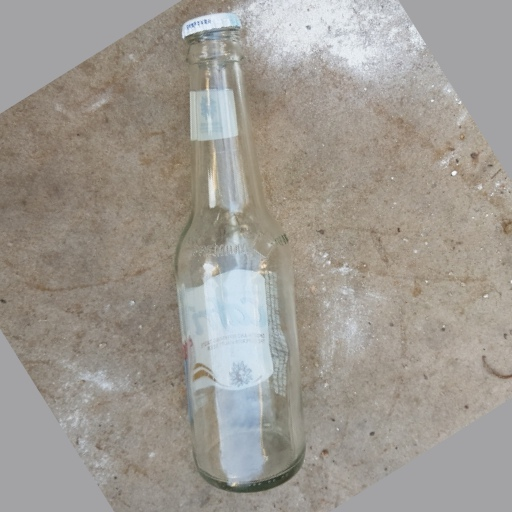Glass_1: (175, 7, 308, 489)
